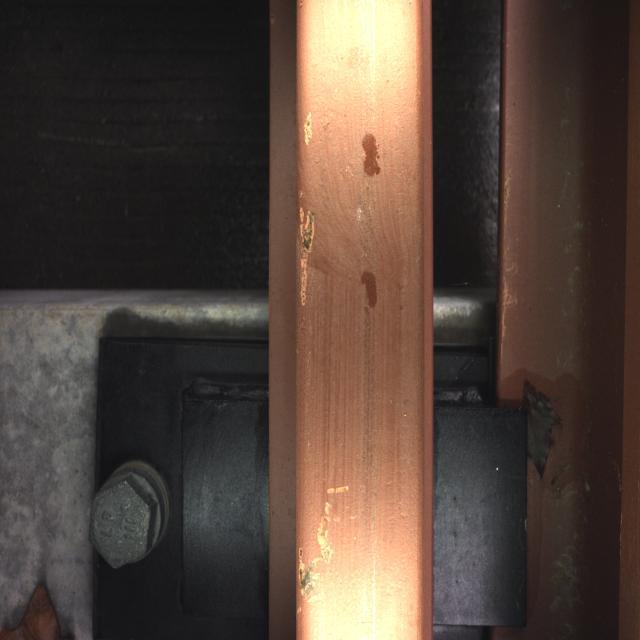scar: (286, 62, 408, 368), (288, 508, 334, 632)
